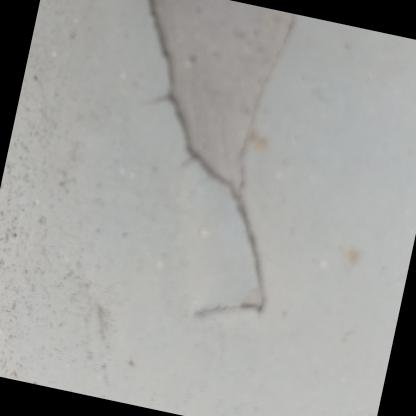Crack: (31, 0, 387, 369)
